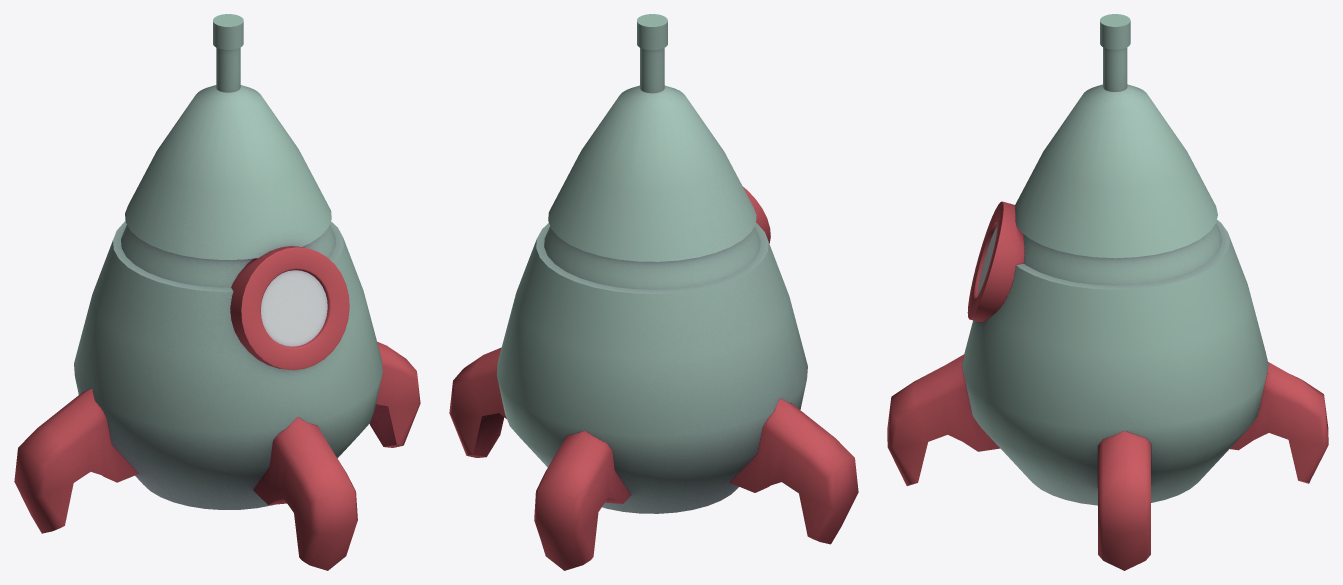
Rendered from Nave3.fbx.
3 renders of one model, left to right at view 1: azimuth 30°, elevation 25°; view 2: azimuth 150°, elevation 25°; view 3: azimuth 270°, elevation 25°, orthographic.
Visible parts, largest first — view 1: NaveVer3; view 2: NaveVer3; view 3: NaveVer3.
Part boxes in pixels (x1,y1,x2,y2): NaveVer3: (14,14,420,570); NaveVer3: (449,14,858,570); NaveVer3: (887,14,1328,570).
Size of the model in its own units: 186 by 186 by 218.
1 material, 1 textured.
